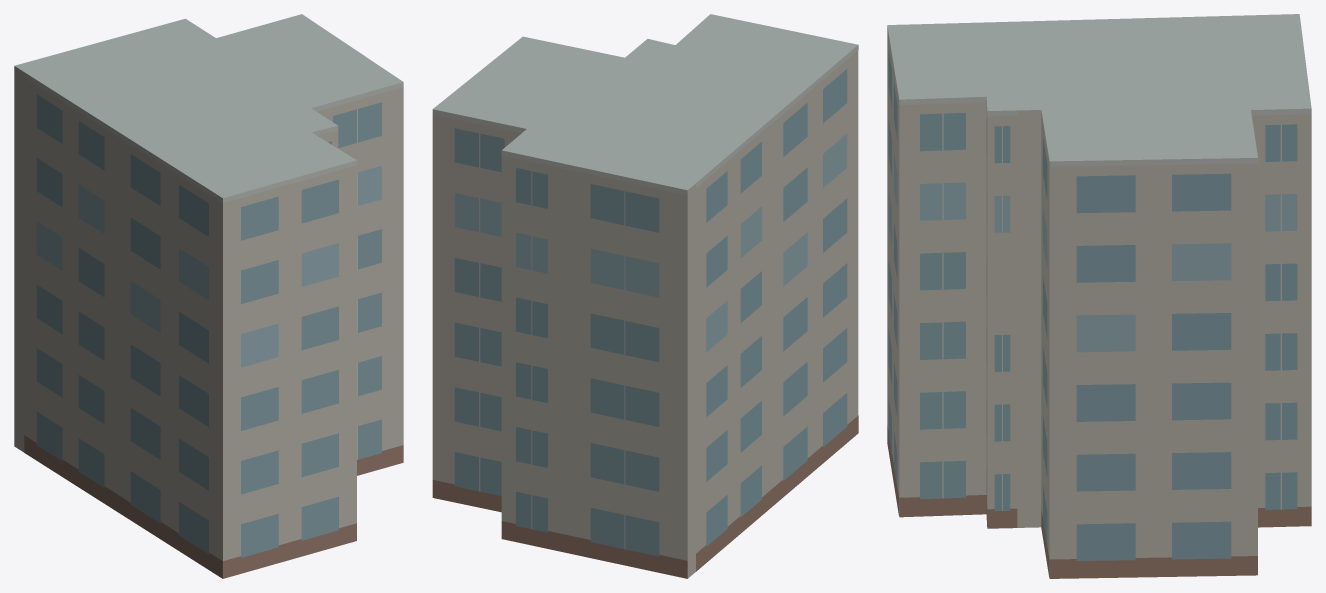
The model's file is survey-upis-32895653.glb.
The picture shows the model from 3 angles, left to right: view 1: azimuth 30°, elevation 25°; view 2: azimuth 150°, elevation 25°; view 3: azimuth 270°, elevation 25°; orthographic projection. The views are drawn at different scales.
Visible parts, largest first — view 1: survey-upis-32895653.tmp; view 2: survey-upis-32895653.tmp; view 3: survey-upis-32895653.tmp.
Part boxes in pixels (left/top/right/bottom): survey-upis-32895653.tmp: left=14, top=14, right=403, bottom=578; survey-upis-32895653.tmp: left=432, top=14, right=858, bottom=578; survey-upis-32895653.tmp: left=887, top=14, right=1311, bottom=578.
Bounding box in the file's own units: 13.9 × 18.35 × 16.91.
